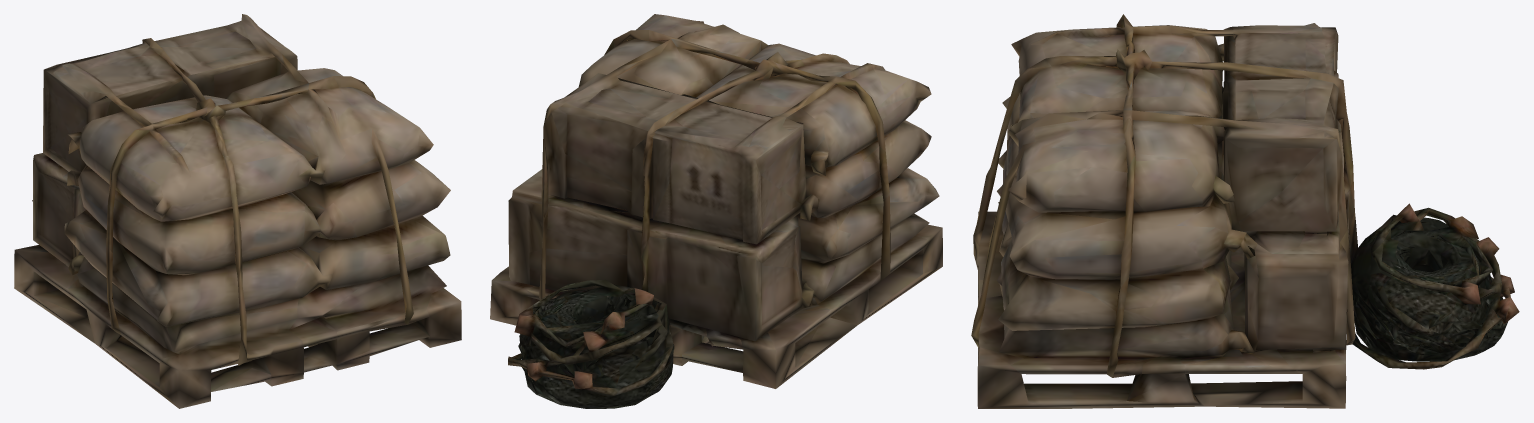
The model's file is prop_cargo_pallet.glb.
The picture shows the model from 3 angles, left to right: view 1: azimuth 30°, elevation 25°; view 2: azimuth 150°, elevation 25°; view 3: azimuth 270°, elevation 25°; orthographic projection. The views are drawn at different scales.
Visible parts, largest first — view 1: tripo_node_0ec14a4c-175a-443b-8f6a-a6719ce854e0; view 2: tripo_node_0ec14a4c-175a-443b-8f6a-a6719ce854e0; view 3: tripo_node_0ec14a4c-175a-443b-8f6a-a6719ce854e0.
Boxes of the visible parts, x1,y1,x2,y2 form: tripo_node_0ec14a4c-175a-443b-8f6a-a6719ce854e0: (14, 14, 461, 408); tripo_node_0ec14a4c-175a-443b-8f6a-a6719ce854e0: (490, 14, 942, 408); tripo_node_0ec14a4c-175a-443b-8f6a-a6719ce854e0: (971, 14, 1519, 408).
Bounding box in the file's own units: 0.7079 × 0.5248 × 1.
Materials: 1 (1 with a texture image).
